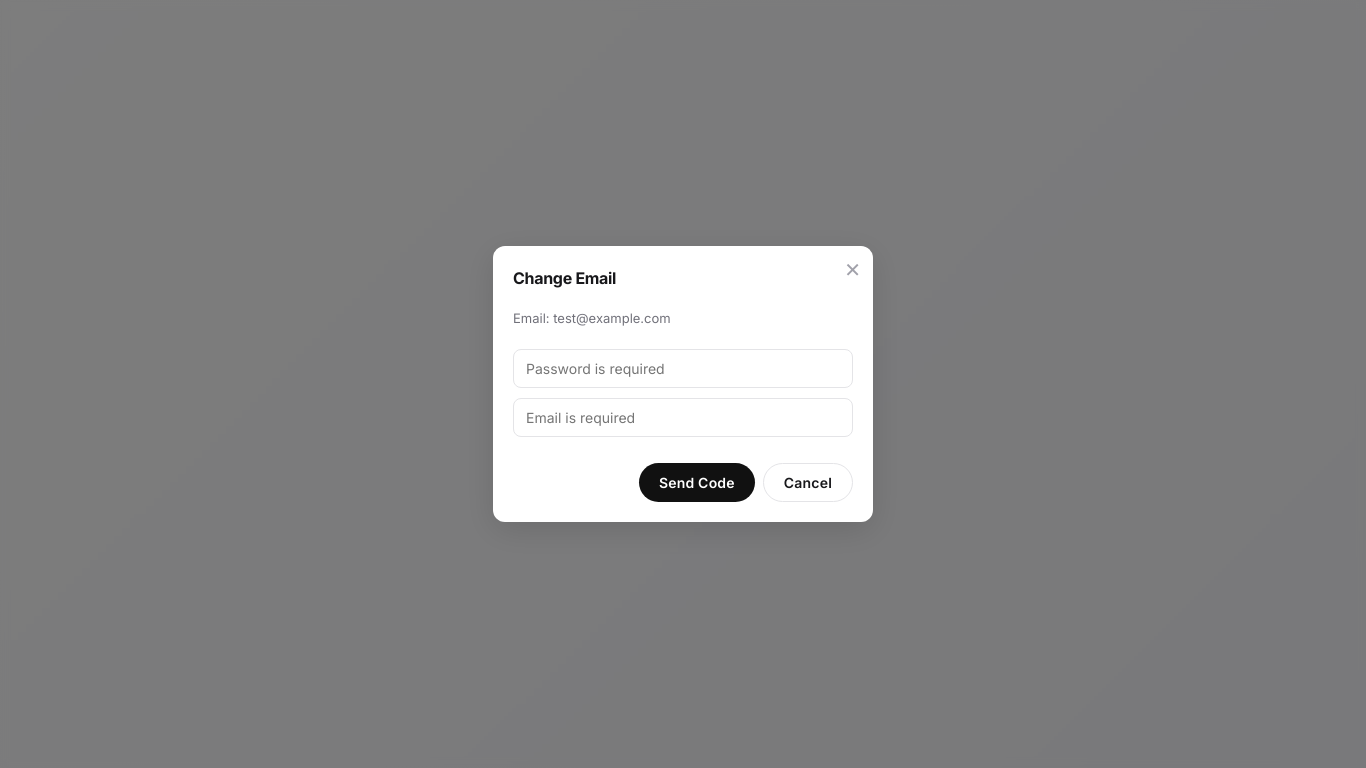
it: ProfileModals › Change Email Modal › should disable button while submitting
The image size is (1366, 768).
Type "password123" into the password field with placeholder "Password is required" at (683, 368), box 513,349 -> 853,388
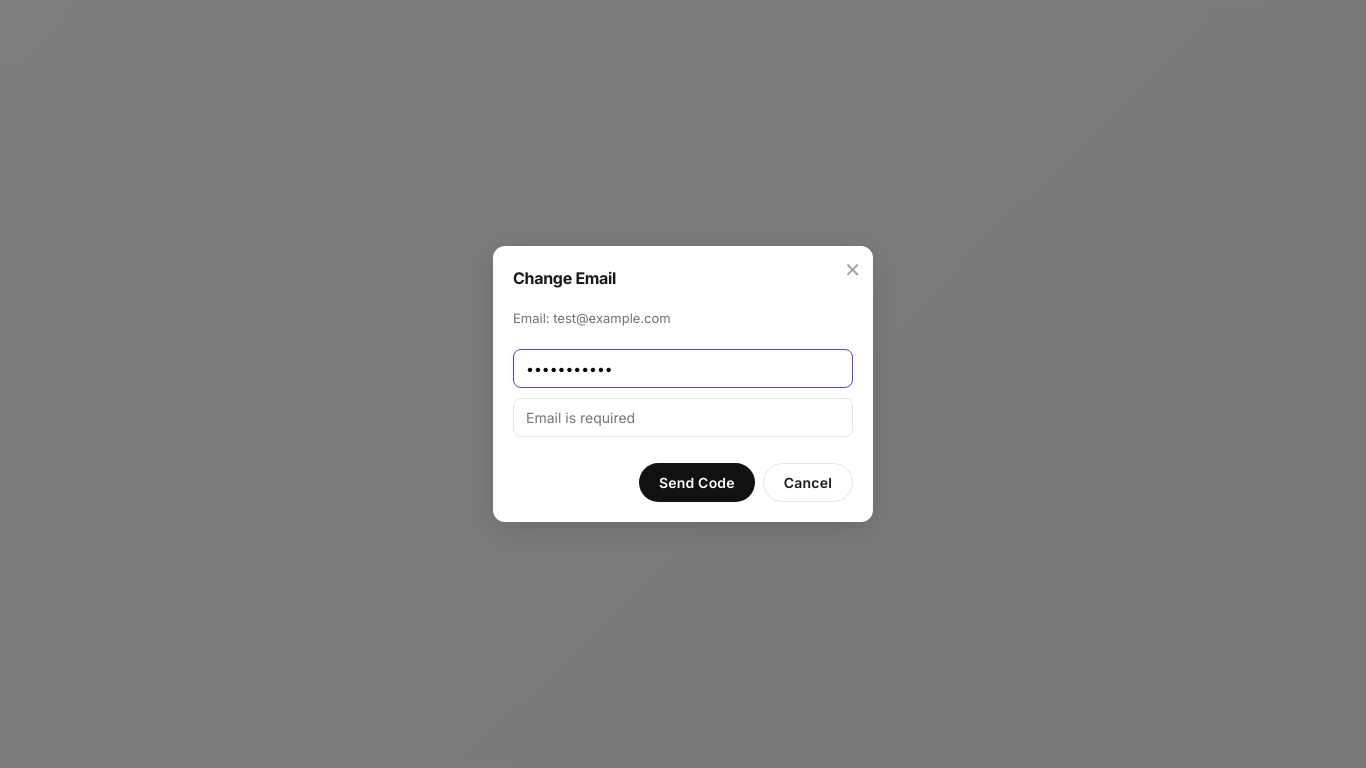
Type "newemail@test.com" into the field with placeholder "Email is required" at (683, 417), box 513,398 -> 853,437
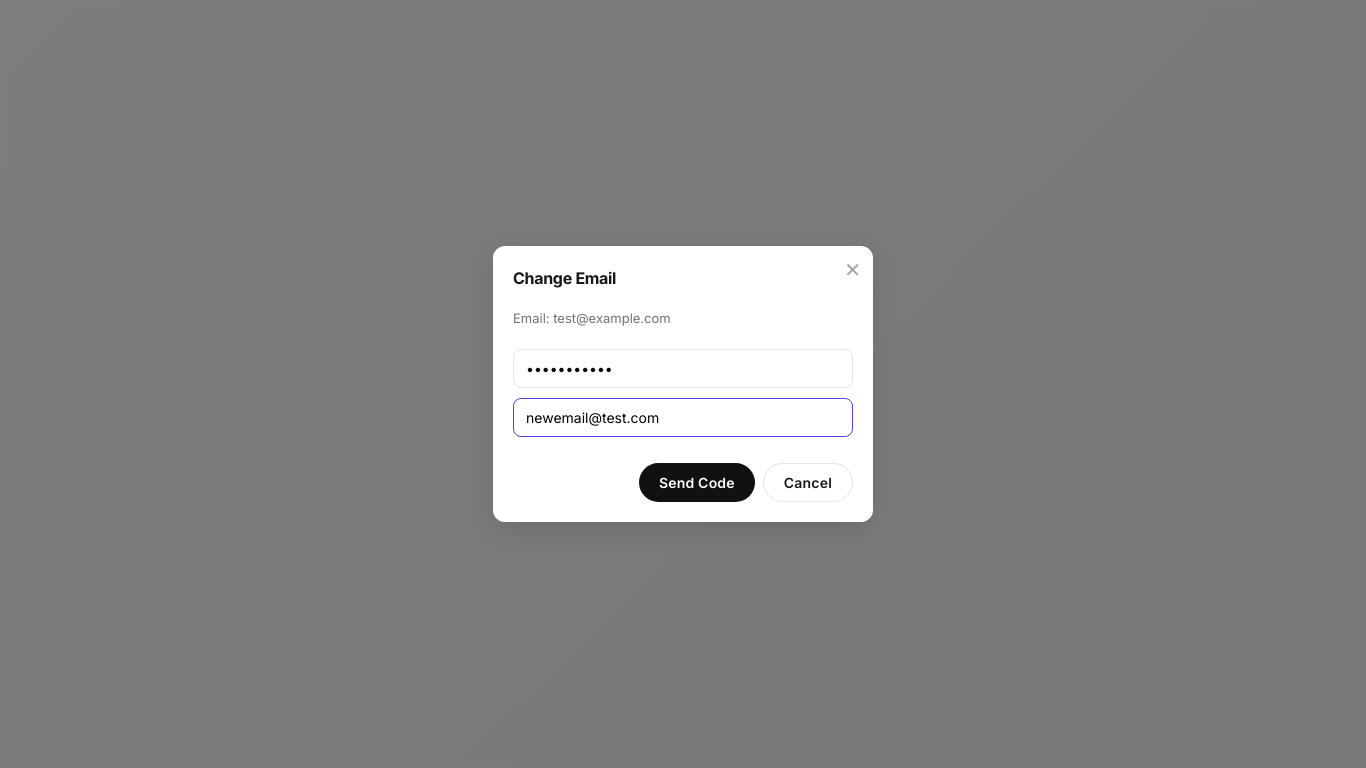
Click the button "Send Code" at (697, 482), box 639,463 -> 755,502
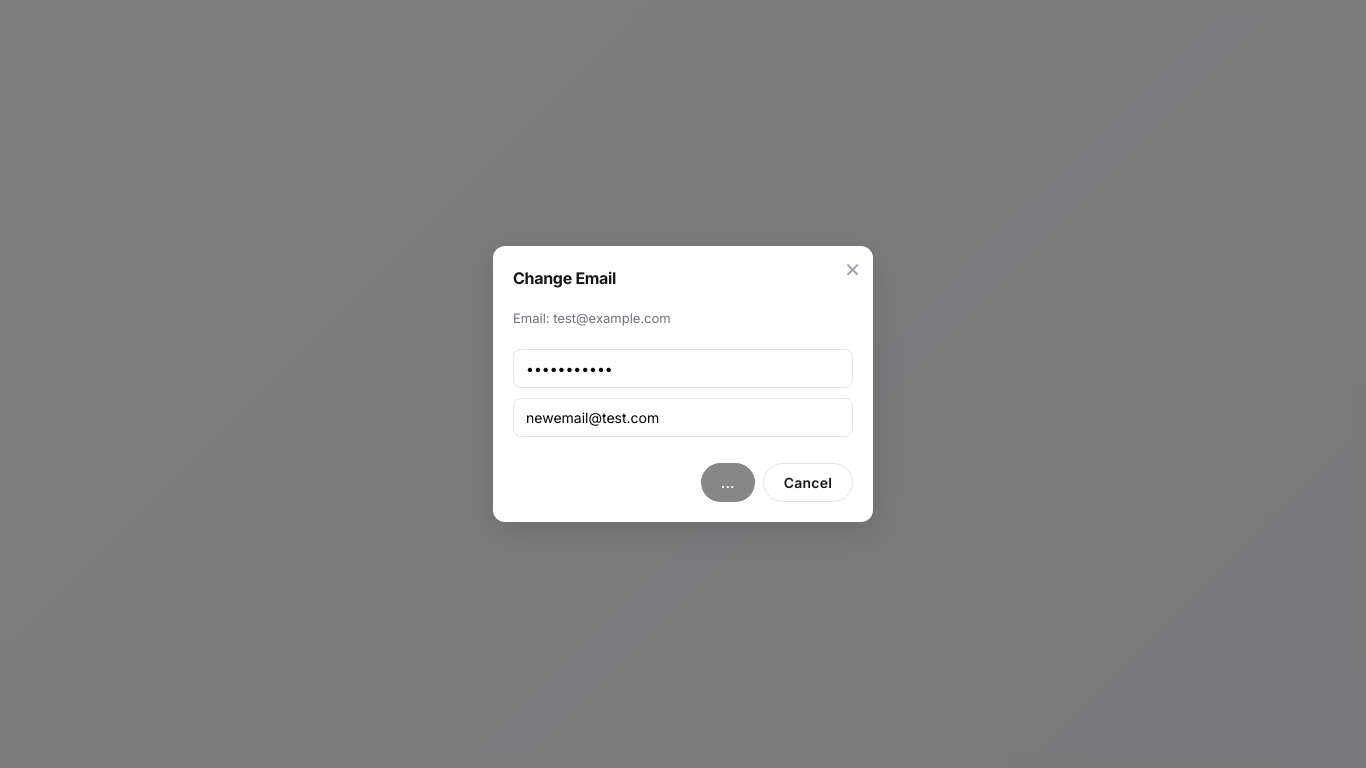
Expected: the button "send code" is disabled, 701,463 -> 755,502
